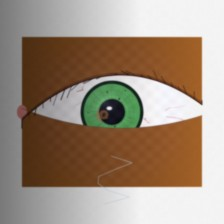foreign_body_visible: (138, 124, 167, 147)
